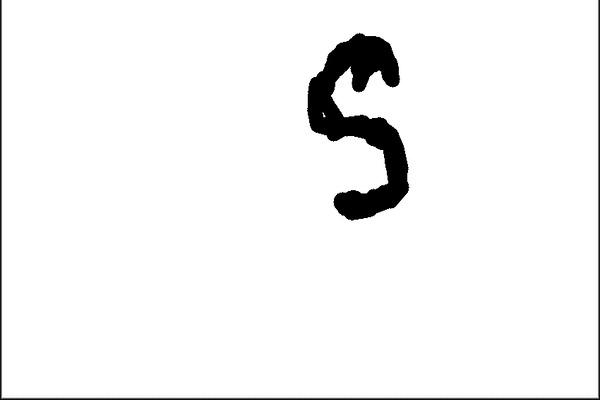S: (292, 27, 425, 228)
